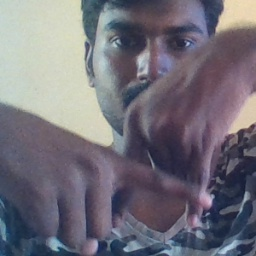H: (95, 102, 221, 239)
